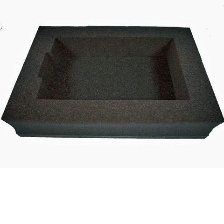foam_box: (0, 20, 224, 142)
